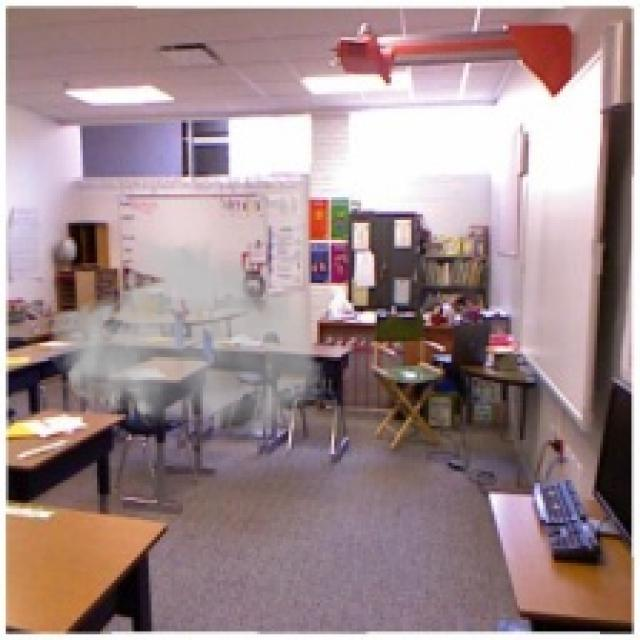smoke: (45, 232, 328, 437)
